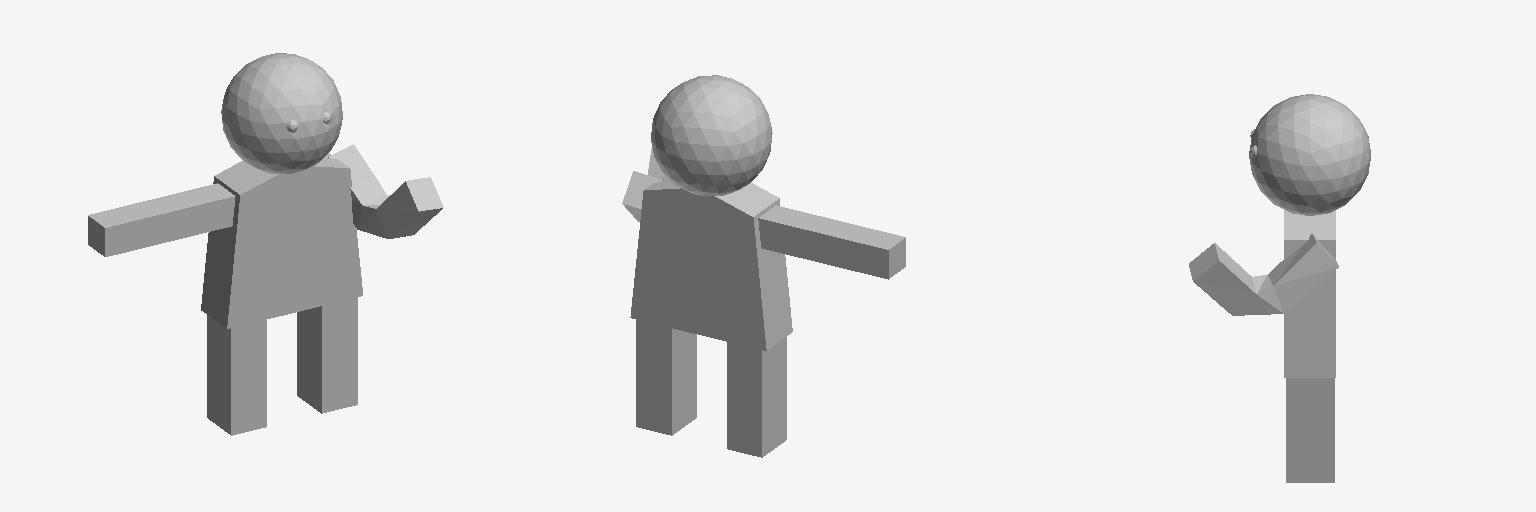
The model's file is NewPlayer2.obj.
3 renders of one model, left to right at view 1: azimuth 30°, elevation 25°; view 2: azimuth 150°, elevation 25°; view 3: azimuth 270°, elevation 25°, orthographic.
Parts seen in each view (by area): view 1: Torso_Cube, Head_Icosphere.001, RightArm_Cube.004, RightLeg_Cube.003, LeftLeg_Cube.002, RightArm.001_Cube.007; view 2: Torso_Cube, Head_Icosphere.001, RightArm_Cube.004, RightLeg_Cube.003, LeftLeg_Cube.002, RightArm.001_Cube.007; view 3: Head_Icosphere.001, RightArm.001_Cube.007, Torso_Cube, LeftLeg_Cube.002.
Part boxes in pixels (x1,y1,x2,y2): Torso_Cube: (201,153,362,328); Head_Icosphere.001: (221,53,342,173); RightArm_Cube.004: (88,183,235,256); RightLeg_Cube.003: (207,315,266,435); LeftLeg_Cube.002: (297,297,357,413); RightArm.001_Cube.007: (328,144,443,238); Torso_Cube: (630,175,792,350); Head_Icosphere.001: (651,75,772,195); RightArm_Cube.004: (758,205,905,279); RightLeg_Cube.003: (727,337,786,457); LeftLeg_Cube.002: (636,320,696,435); RightArm.001_Cube.007: (622,149,664,221); Head_Icosphere.001: (1249,94,1370,215); RightArm.001_Cube.007: (1189,234,1338,315); Torso_Cube: (1284,210,1335,377); LeftLeg_Cube.002: (1286,378,1334,482).
Size of the model in its own units: 1.59 by 1.86 by 0.8714.